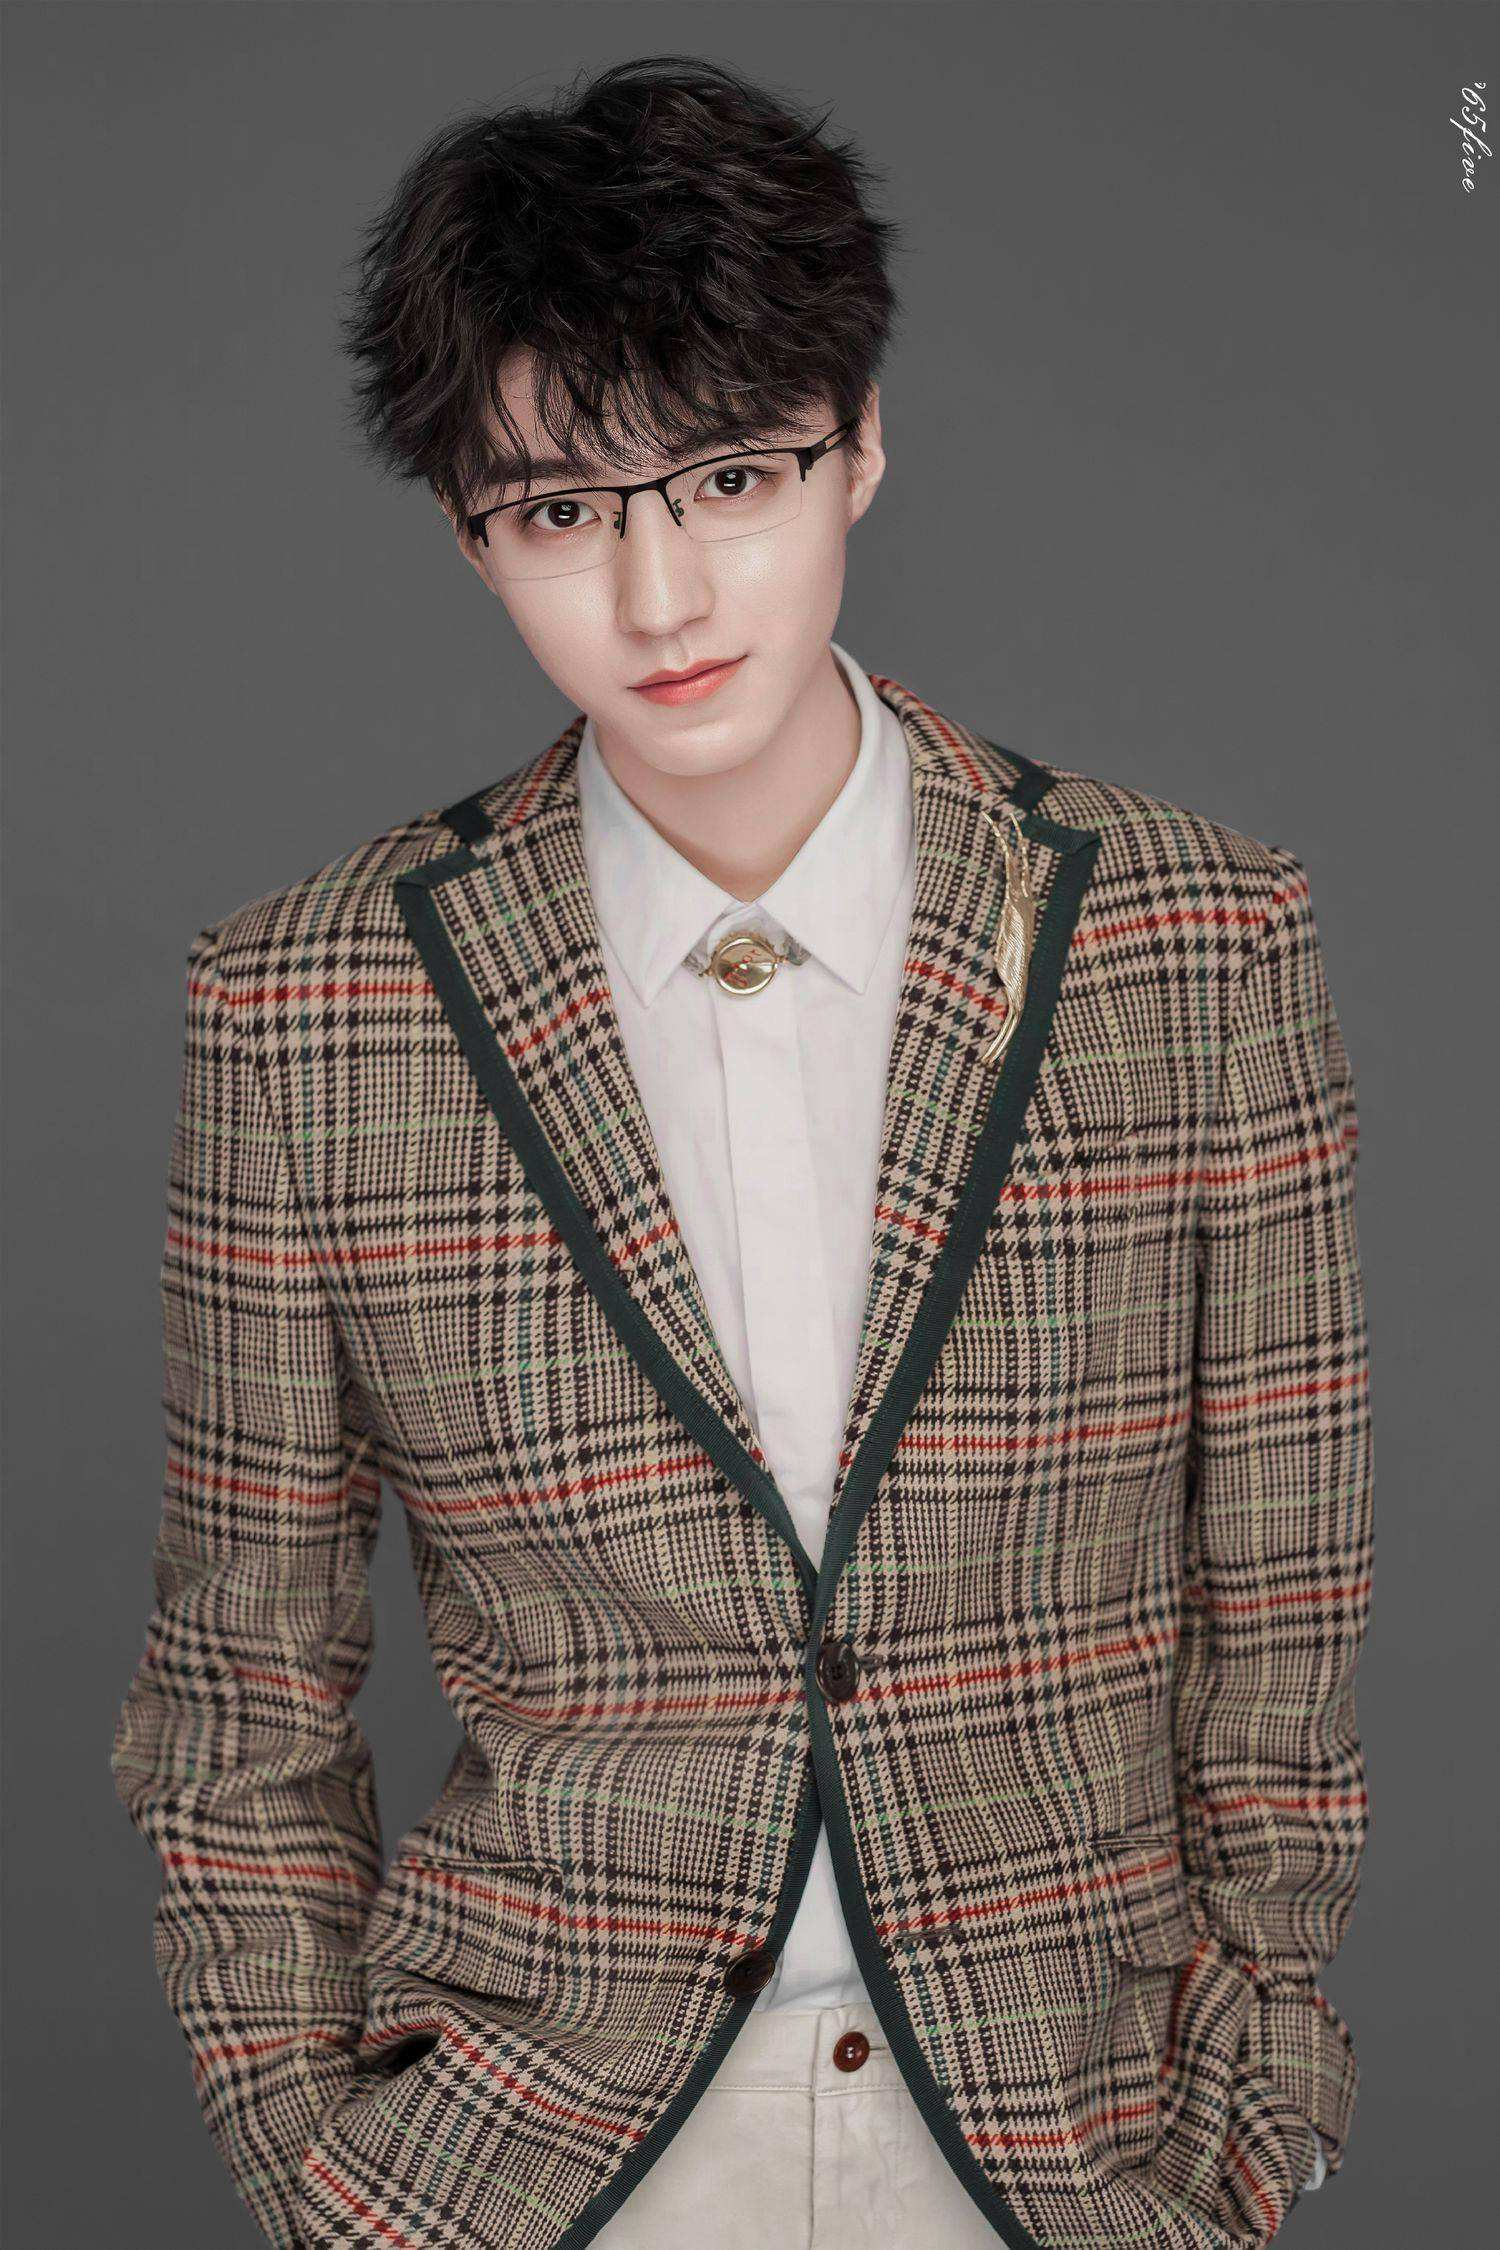person: (261, 15, 1396, 2034)
